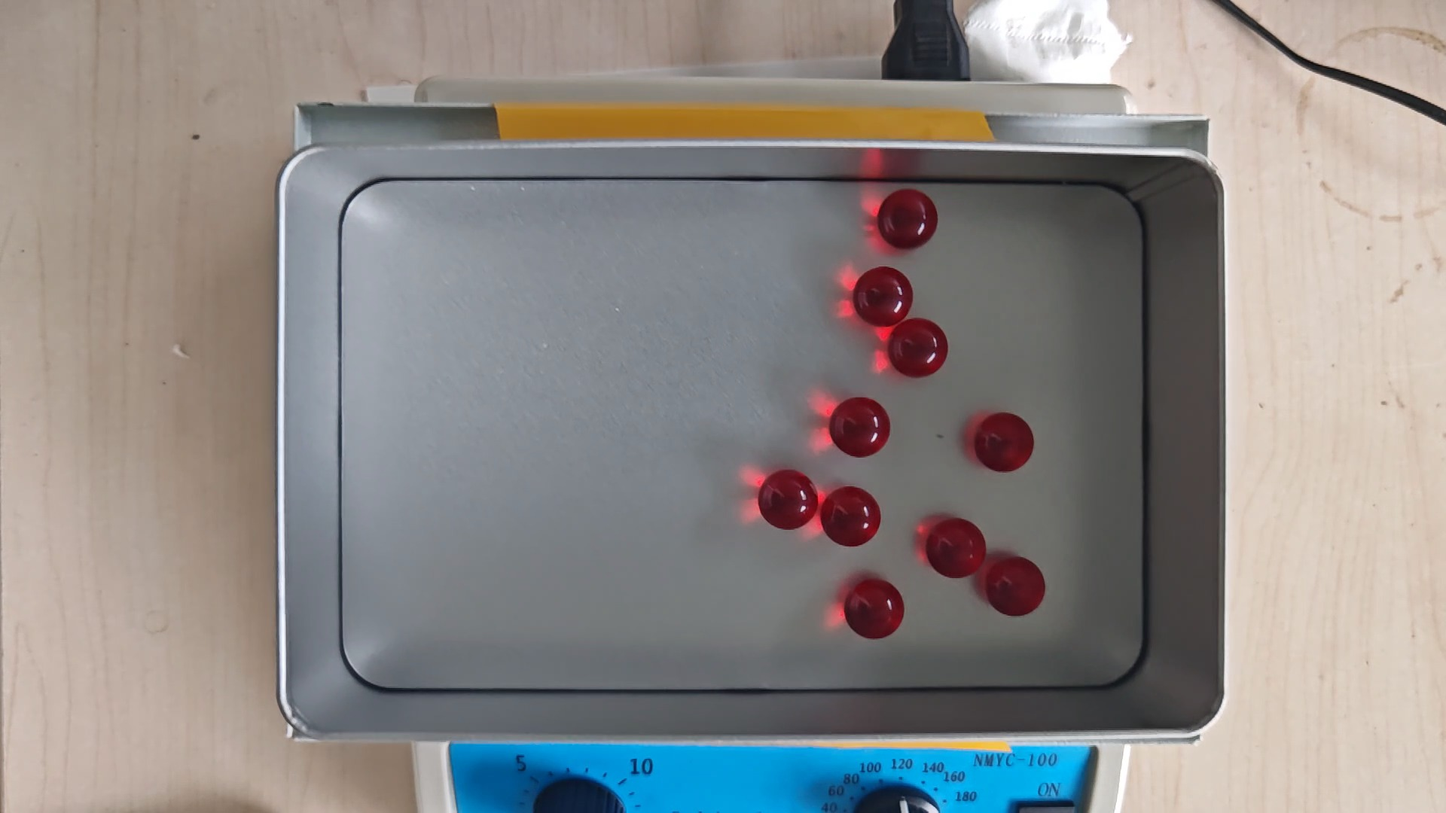ball: (821, 485, 882, 548), (974, 411, 1035, 473), (830, 396, 891, 458), (878, 187, 938, 250), (926, 516, 986, 579), (845, 578, 905, 641), (888, 318, 949, 379), (986, 556, 1047, 617), (759, 469, 818, 531), (854, 266, 913, 326)
container: (340, 179, 1145, 690)
